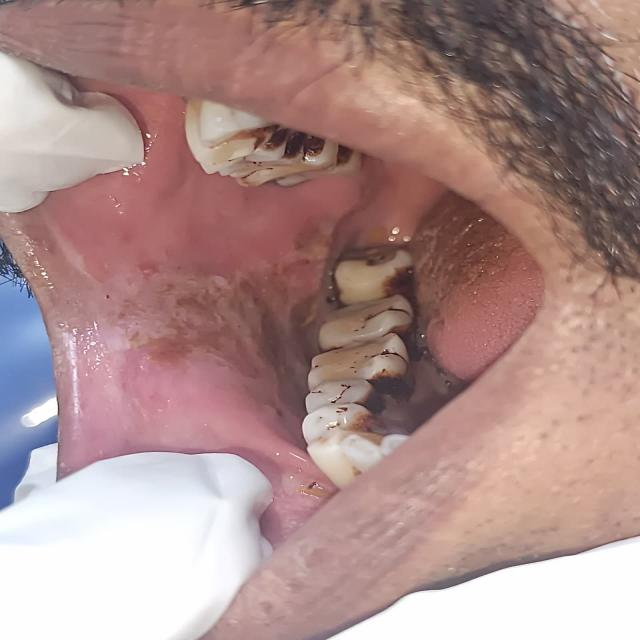leukoplakia-detection: (92, 211, 341, 395)
processing_area: (21, 88, 350, 549)
